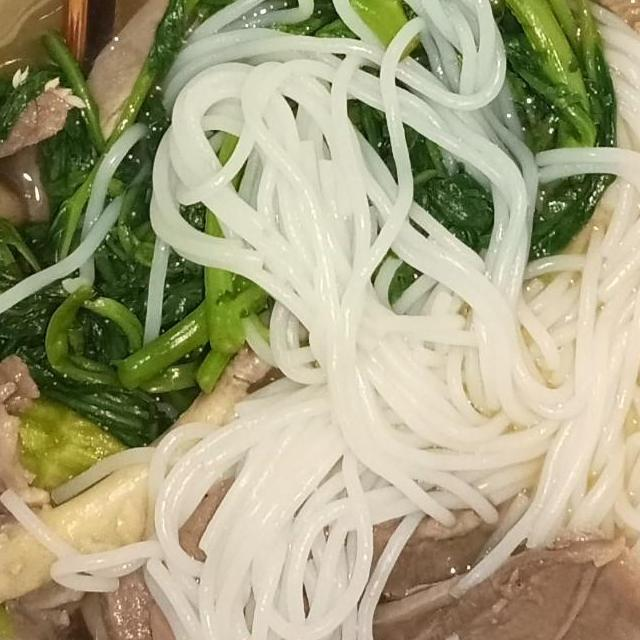bun: (135, 0, 547, 640), (502, 0, 640, 619)
